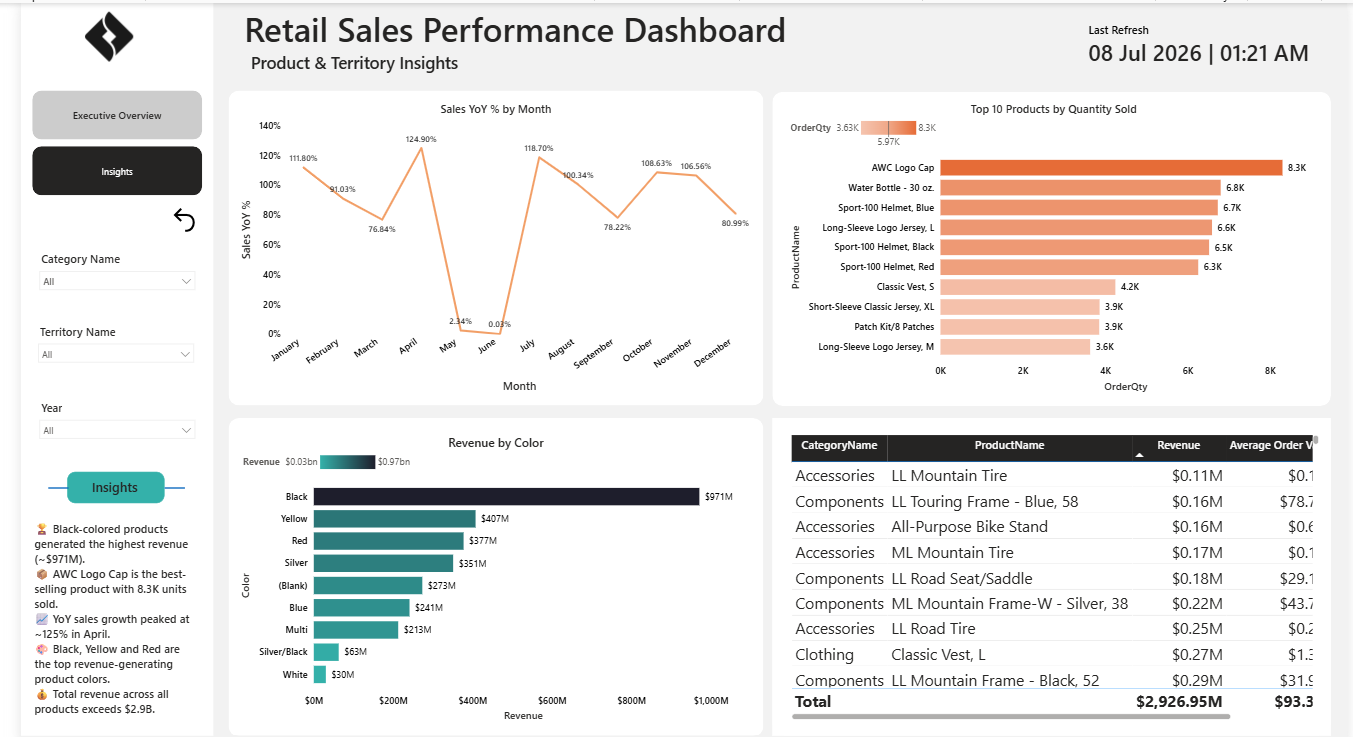

The dashboard page shown, as its layout file describes it:
{"tool":"powerbi","page":{"name":"Insights","canvas":[1920,1080],"ordinal":1},"visuals":[{"type":"shape","box":[1087.6,600.8,808.9,461.5],"z":0},{"type":"shape","box":[0,0,278.7,1062.3],"z":1000},{"type":"image","box":[68.8,12.7,117.6,72.4],"z":2000},{"type":"textbox","box":[300.4,0,830.6,85.1],"z":3000},{"type":"shape","box":[300.4,121.2,380,179.2],"z":4000},{"type":"shape","box":[300.4,126.7,774.5,456],"z":5000},{"type":"shape","box":[1086.8,127.6,808.9,454.9],"z":6000},{"type":"shape","box":[300.4,600.8,774.5,461.5],"z":7000},{"type":"slicer","fields":{"Values":["gold vw_Products.CategoryName"]},"box":[16.3,354.7,246.1,70.6],"z":8000},{"type":"slicer","fields":{"Values":["gold vw_Territory.TerritoryName"]},"box":[14.5,459.7,246.1,76],"z":9000},{"type":"pageNavigator","box":[16.3,126.7,246.1,153.8],"z":10000},{"type":"slicer","fields":{"Values":["DimDate.Year"]},"box":[16.3,570,246.1,83.2],"z":11000},{"type":"textbox","box":[327.5,65.1,325.7,56.1],"z":12000},{"type":"textbox","box":[67,678.6,141.2,45.2],"z":13000},{"type":"shape","box":[39.8,658.7,29,86.9],"z":14000},{"type":"shape","box":[208.1,658.7,29,86.9],"z":15000},{"type":"actionButton","box":[209.9,291.4,52.5,45.2],"z":16000},{"type":"cardVisual","fields":{"Data":["Min(Last Refresh.Last Refresh)"]},"box":[1516.5,12.7,378.2,94.1],"z":17000},{"type":"lineChart","fields":{"Category":["DimDate.Month"],"Y":["DimDate.Sales YoY %"]},"box":[313.1,141.2,749.2,428.9],"z":18000},{"type":"tableEx","fields":{"Values":["gold vw_Products.CategoryName","gold vw_Products.ProductName","gold vw_Customers.Total Revenue","gold vw_Customers.Average Order Value","DimDate.Orders count"]},"box":[1109.3,620.7,774.5,421.7],"z":19000},{"type":"barChart","title":"Top 10 Products by Quantity Sold","fields":{"Category":["gold vw_Products.ProductName"],"Y":["Sum(gold vw_FactSales.OrderQty)"]},"box":[1109.4,142,771.9,428.1],"z":20000},{"type":"clusteredBarChart","fields":{"Y":["gold vw_Customers.Total Revenue"],"Category":["gold vw_Products.Color"]},"box":[313.1,624.3,749.2,421.7],"z":21000},{"type":"textbox","box":[14.5,745.6,247.9,300.4],"z":22000}]}

Visuals, with their boxes on the page's 1920x1080 design canvas (x1, y1, x2, y2). These are canvas units, not pixel positions in the 1353x737 screenshot, which may show the page scaled, cropped or inside an application window:
shape: [1088, 601, 1896, 1062]
shape: [0, 0, 279, 1062]
image: [69, 13, 186, 85]
textbox: [300, 0, 1131, 85]
shape: [300, 121, 680, 300]
shape: [300, 127, 1075, 583]
shape: [1087, 128, 1896, 582]
shape: [300, 601, 1075, 1062]
slicer - gold vw_Products.CategoryName: [16, 355, 262, 425]
slicer - gold vw_Territory.TerritoryName: [14, 460, 261, 536]
pageNavigator: [16, 127, 262, 280]
slicer - DimDate.Year: [16, 570, 262, 653]
textbox: [328, 65, 653, 121]
textbox: [67, 679, 208, 724]
shape: [40, 659, 69, 746]
shape: [208, 659, 237, 746]
actionButton: [210, 291, 262, 337]
cardVisual - Min(Last Refresh.Last Refresh): [1516, 13, 1895, 107]
lineChart - DimDate.Month x DimDate.Sales YoY %: [313, 141, 1062, 570]
tableEx - gold vw_Products.CategoryName x gold vw_Products.ProductName: [1109, 621, 1884, 1042]
"Top 10 Products by Quantity Sold" barChart: [1109, 142, 1881, 570]
clusteredBarChart - gold vw_Customers.Total Revenue x gold vw_Products.Color: [313, 624, 1062, 1046]
textbox: [14, 746, 262, 1046]
